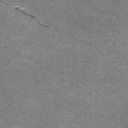finishing roll printing: (0, 0, 48, 26)
